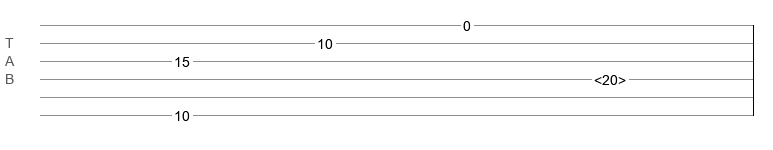0: (463, 18, 471, 28)
10: (174, 108, 190, 118), (317, 36, 333, 46)
15: (174, 54, 190, 64)
harmonic: (594, 72, 626, 82)
